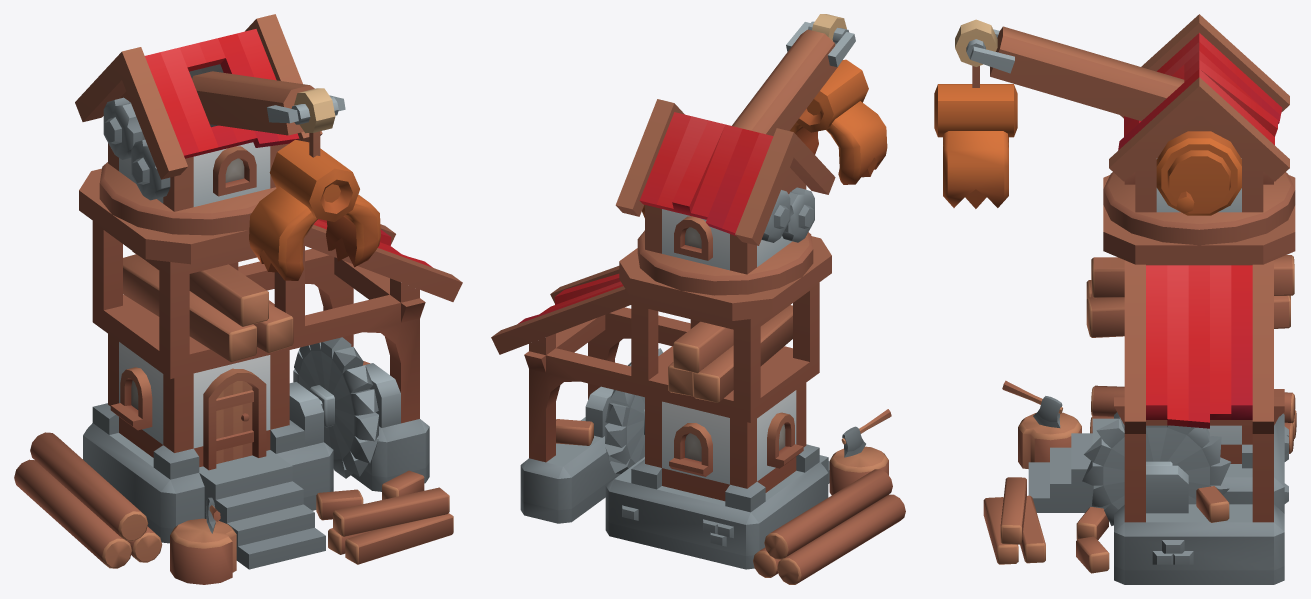
The model's file is building_lumbermill_red.glb.
3 views of the same model, side by side, from view 1: azimuth 30°, elevation 25°; view 2: azimuth 150°, elevation 25°; view 3: azimuth 270°, elevation 25° (orthographic). The views are drawn at different scales.
Visible parts, largest first — view 1: building_lumbermill_red, building_lumbermill_top_red, building_lumbermill_saw_red; view 2: building_lumbermill_red, building_lumbermill_top_red, building_lumbermill_saw_red; view 3: building_lumbermill_red, building_lumbermill_top_red, building_lumbermill_saw_red.
Boxes of the visible parts, box(x1,y1,x2,y2) form: building_lumbermill_red: box(14, 168, 462, 584); building_lumbermill_top_red: box(75, 14, 380, 280); building_lumbermill_saw_red: box(293, 337, 378, 478); building_lumbermill_red: box(491, 236, 905, 584); building_lumbermill_top_red: box(615, 14, 887, 295); building_lumbermill_saw_red: box(605, 348, 662, 474); building_lumbermill_red: box(983, 175, 1296, 584); building_lumbermill_top_red: box(934, 14, 1295, 245); building_lumbermill_saw_red: box(1082, 417, 1231, 525).
Bounding box in the file's own units: 1.37 × 1.71 × 1.19.
Materials: 1 (1 with a texture image).
